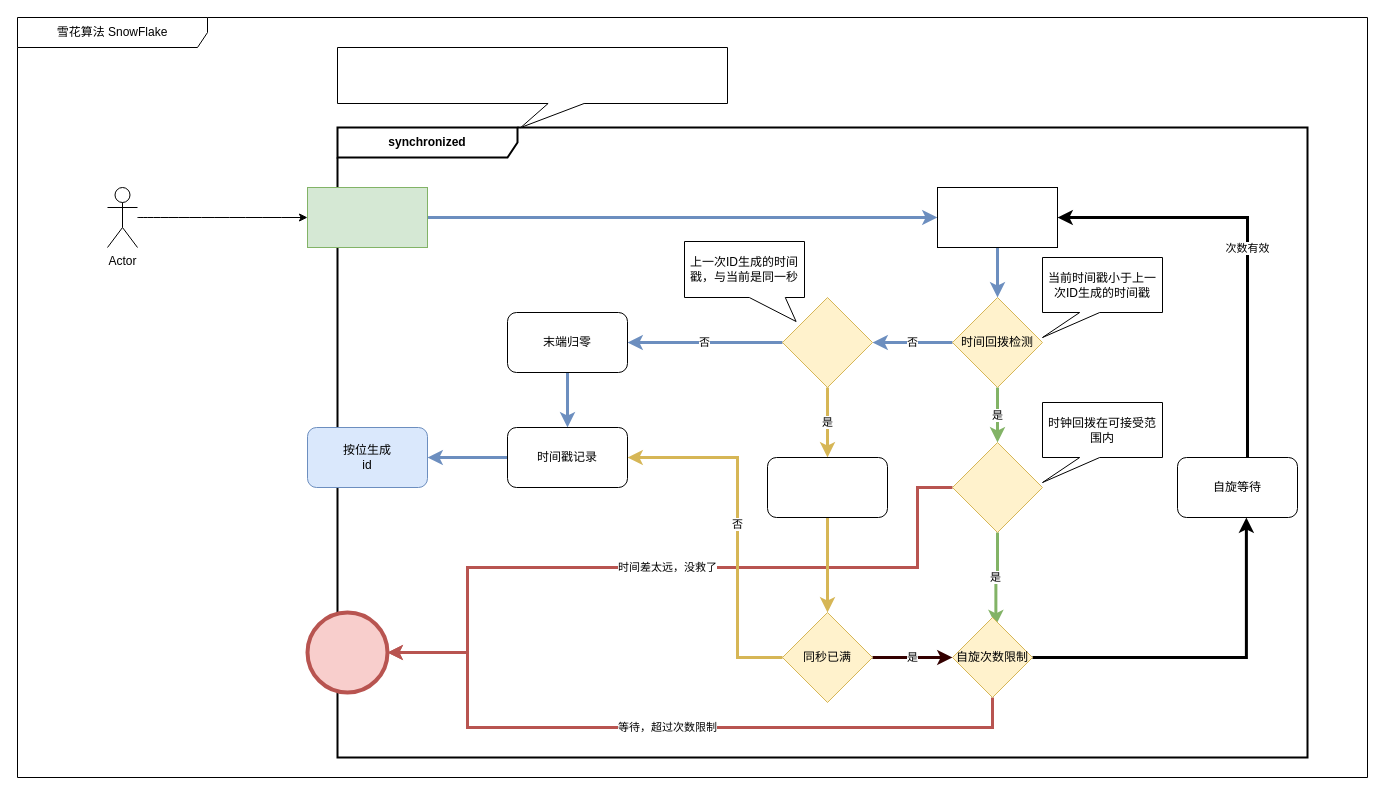
Some shapes in this 1385 by 795 pixel diagram are drawn without their labels. Here are the shapes that lost their labels. From the top down, the centre of each, then its label:
At [532,87]: "用同步锁保证线程安全,在高并发场景同步锁性能和资源消耗优于CAS；并且测试中单线程即使用CAS也没有提升性能".
At [367,217]: "getNextId".
At [997,217]: "获取当前时间戳".
At [827,342]: "同秒检测".
At [827,487]: "末端自增".
At [997,487]: "有救？".
At [347,652]: "异常".
